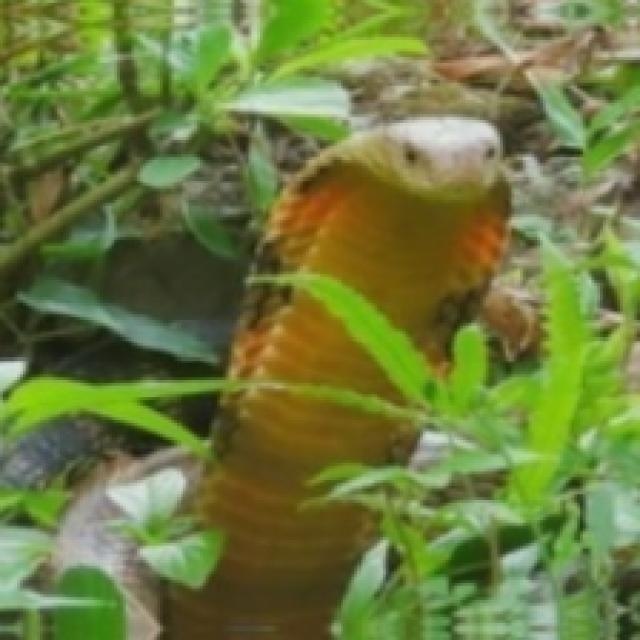king cobra: (166, 286, 414, 637), (257, 117, 509, 366)
